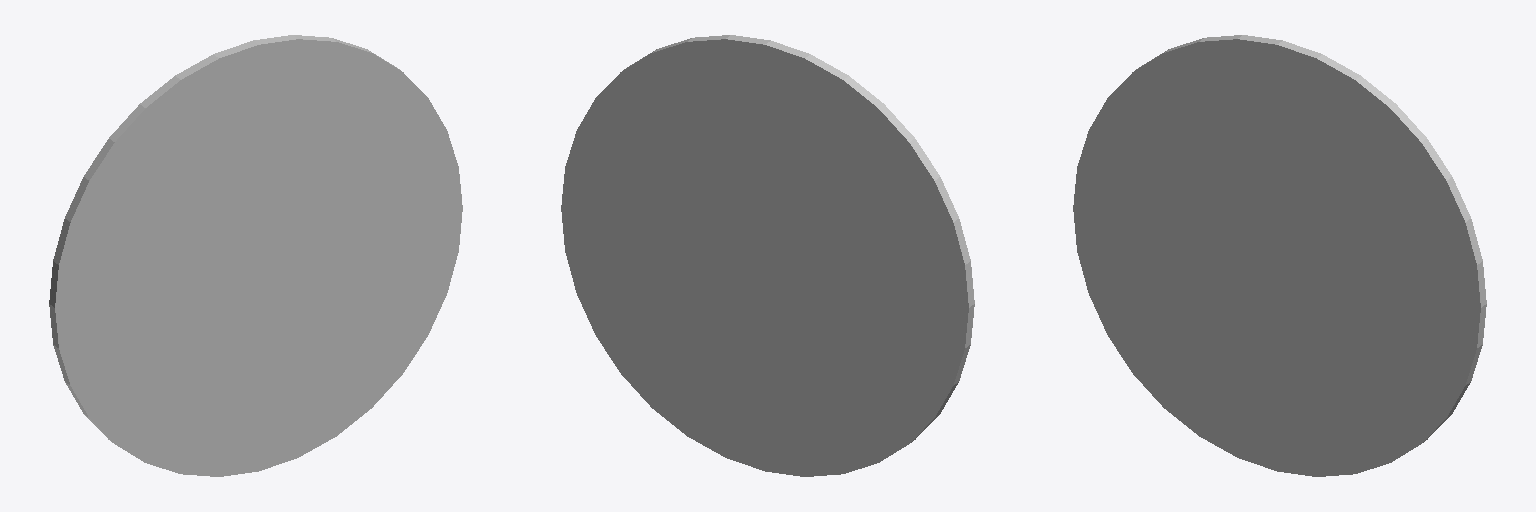
The model's file is circleposter.obj.
3 renders of one model, left to right at view 1: azimuth 30°, elevation 25°; view 2: azimuth 150°, elevation 25°; view 3: azimuth 330°, elevation 25°, orthographic.
Visible parts, largest first — view 1: Cylinder; view 2: Cylinder; view 3: Cylinder.
Part boxes in pixels (left/top/right/bottom): Cylinder: left=49, top=35, right=462, bottom=476; Cylinder: left=561, top=35, right=974, bottom=476; Cylinder: left=1073, top=35, right=1486, bottom=476.
Size of the model in its own units: 4 by 4 by 0.1.